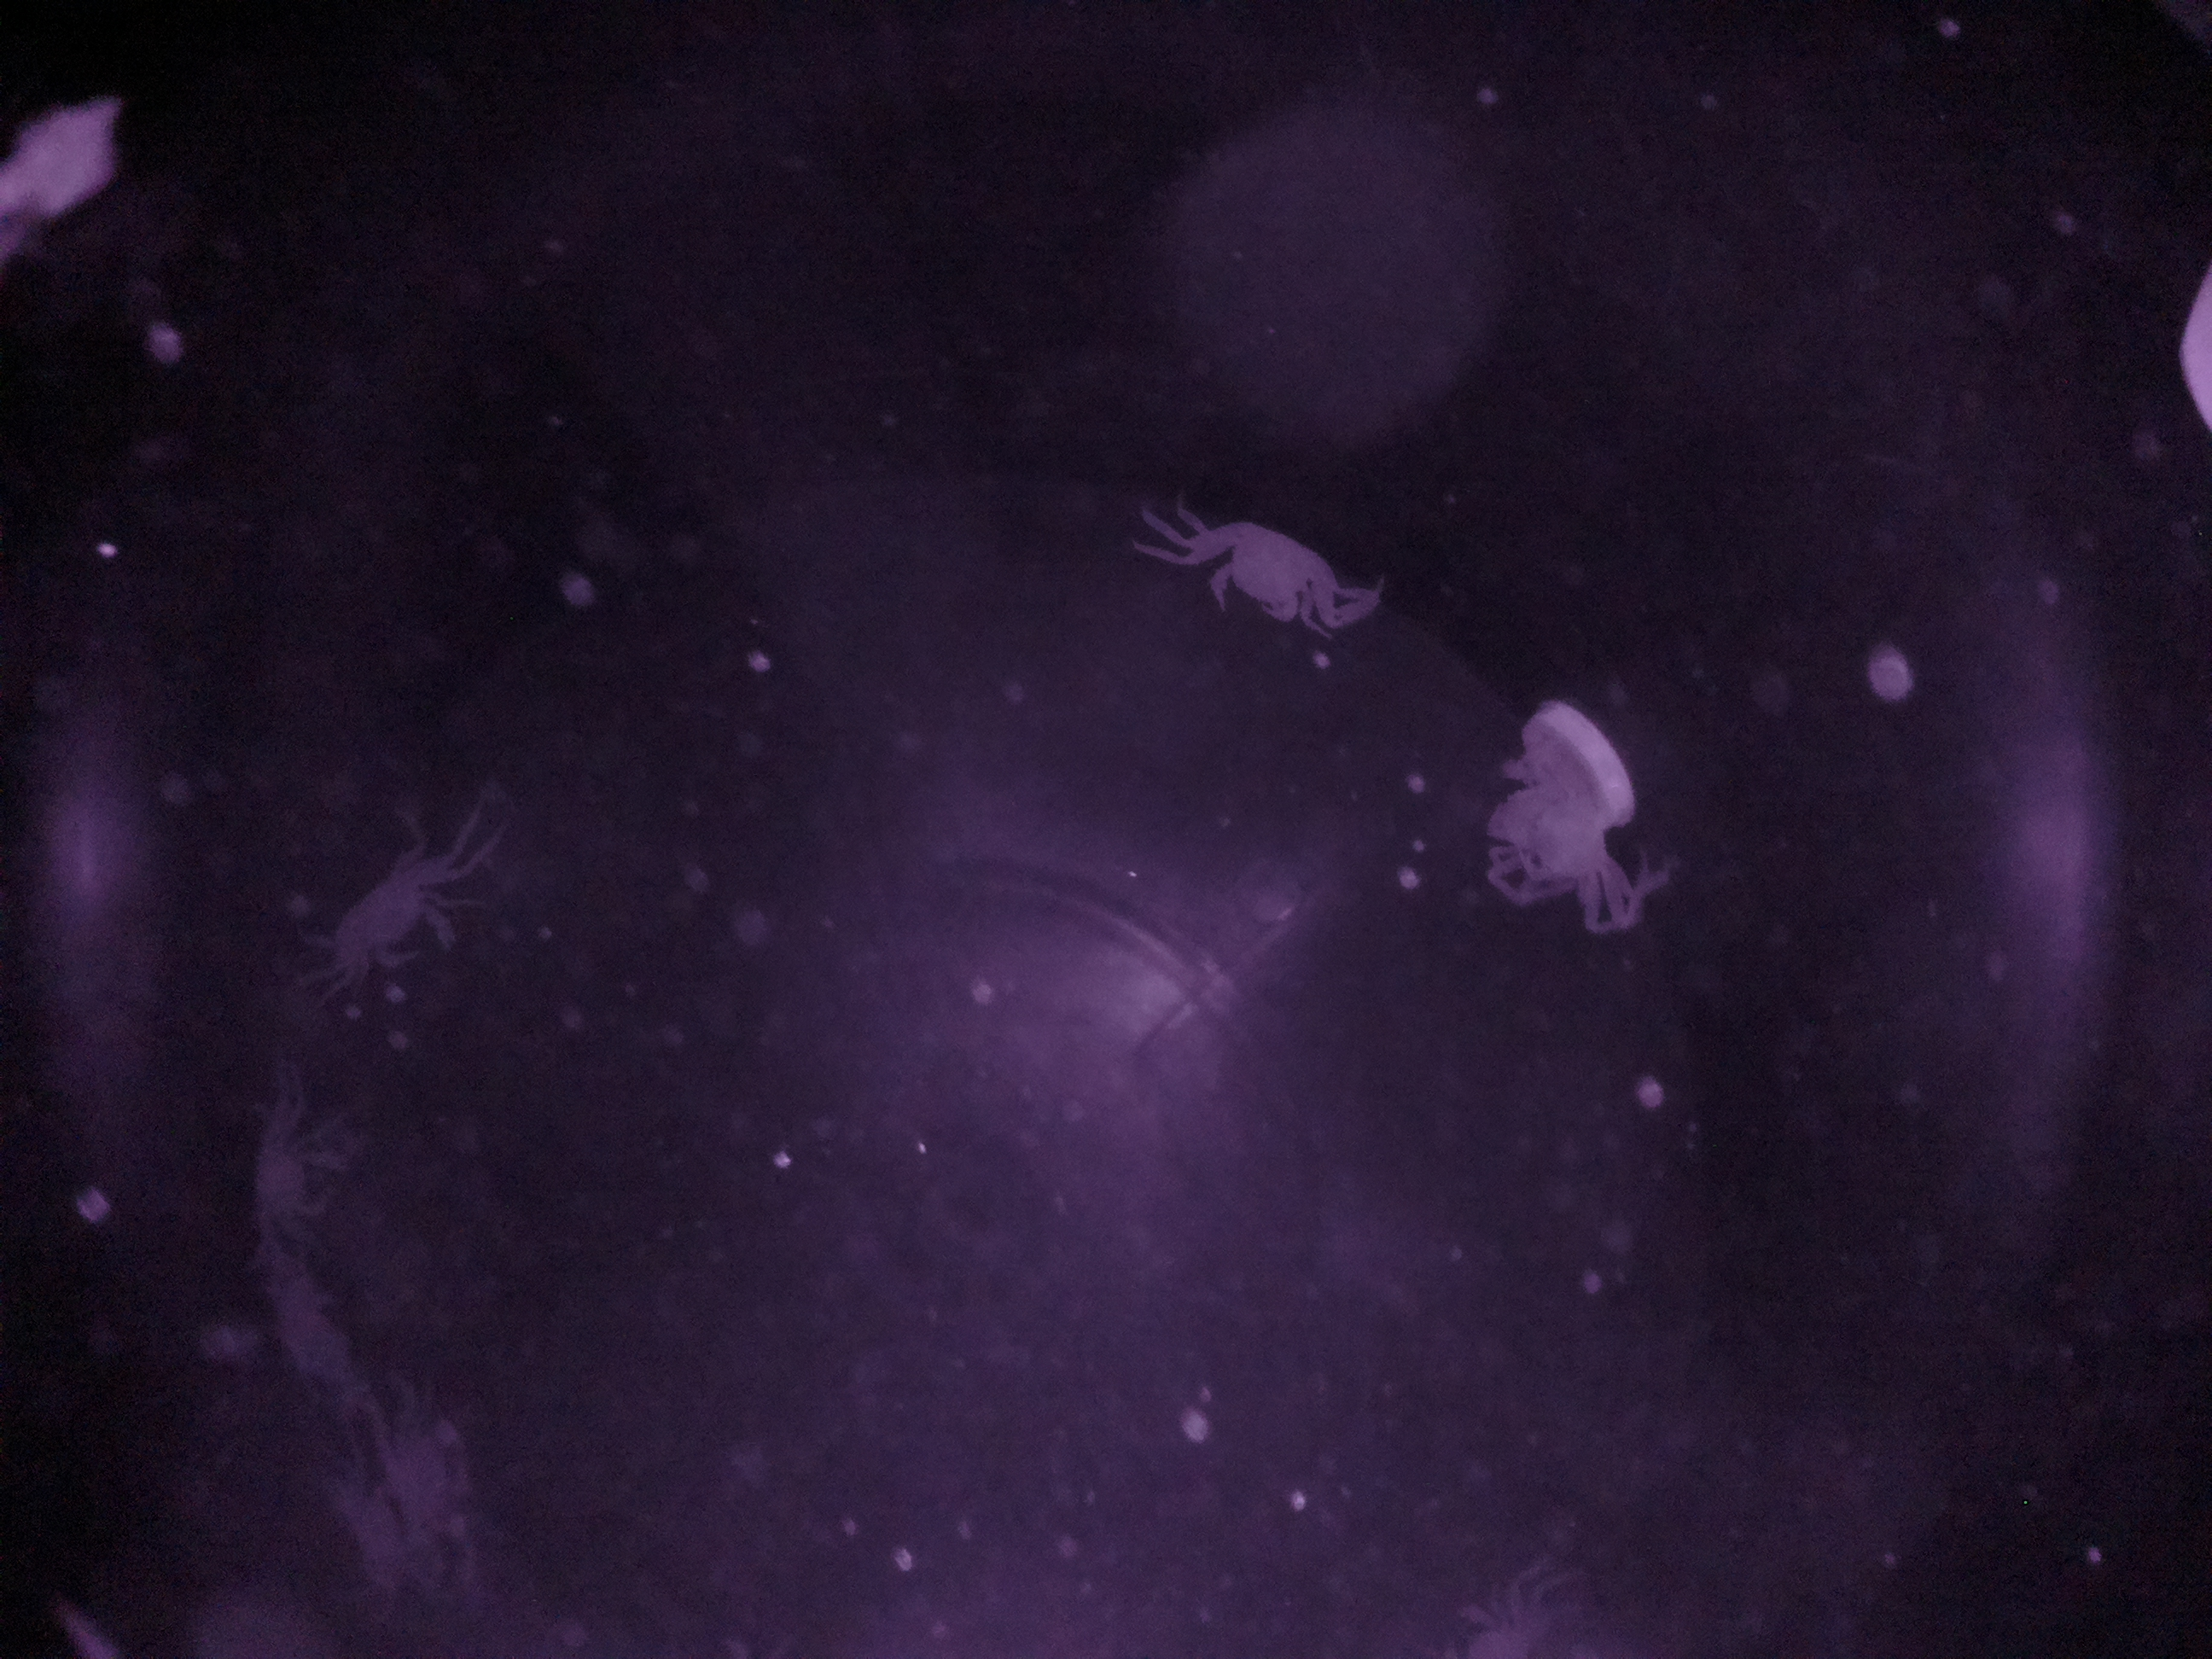Crab: (296, 831, 495, 1006), (1162, 488, 1359, 653)
